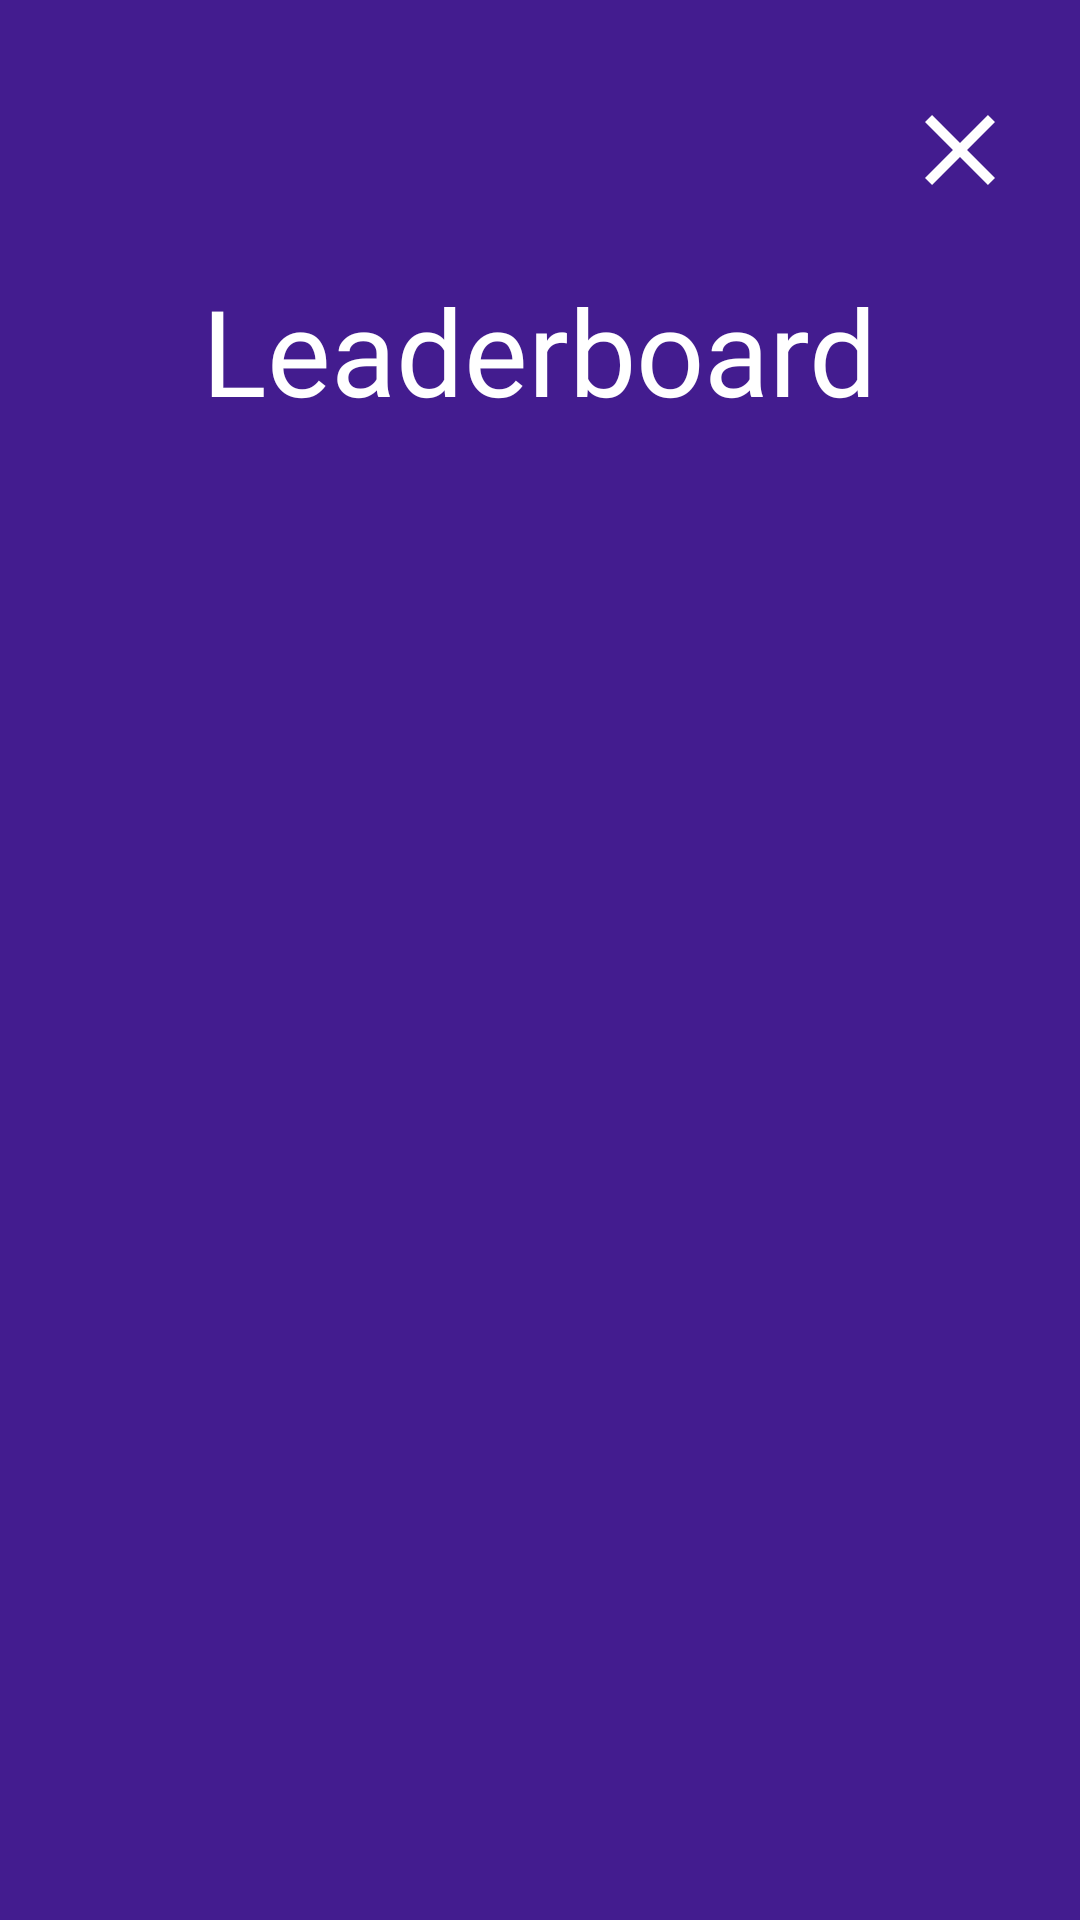

Named icons in this screenshot (1080px×1920px) and their centers, (x=x, y=y):
close: (x=960, y=150)
